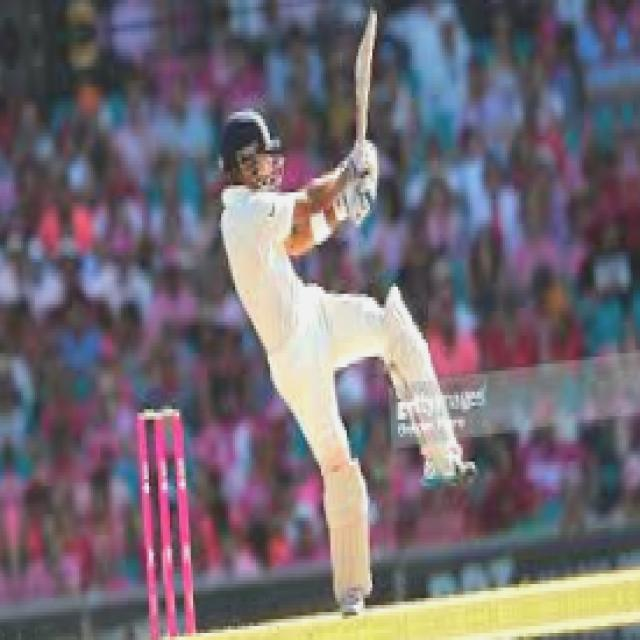toe: (357, 8, 383, 48)
